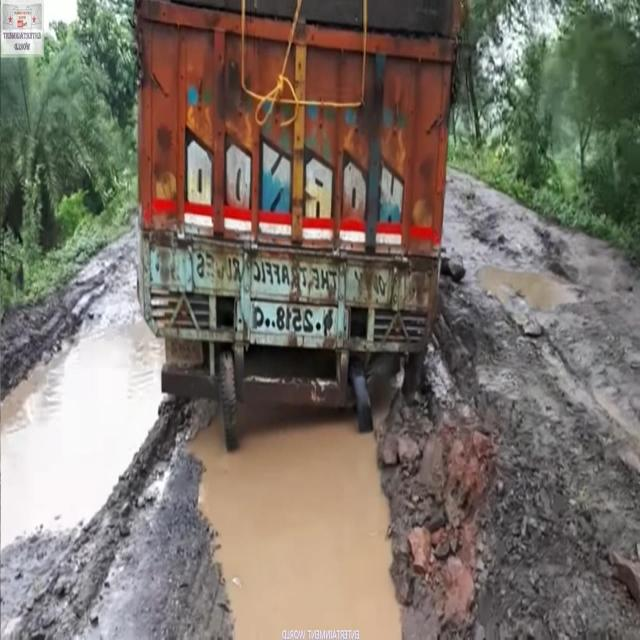truck: (131, 0, 466, 493)
